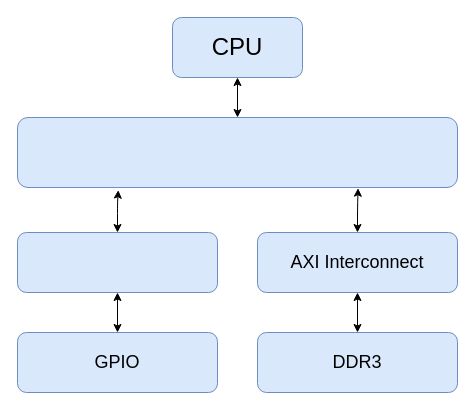
The diagram is 475 pixels wide and 410 high, and some of its shapes have lost their labels. The box of each missing label's shape, as (x1, y1, x2, y2) in pixels:
AXI Crossbar 1x2: (16, 116, 458, 188)
Confreg: (16, 232, 218, 292)
